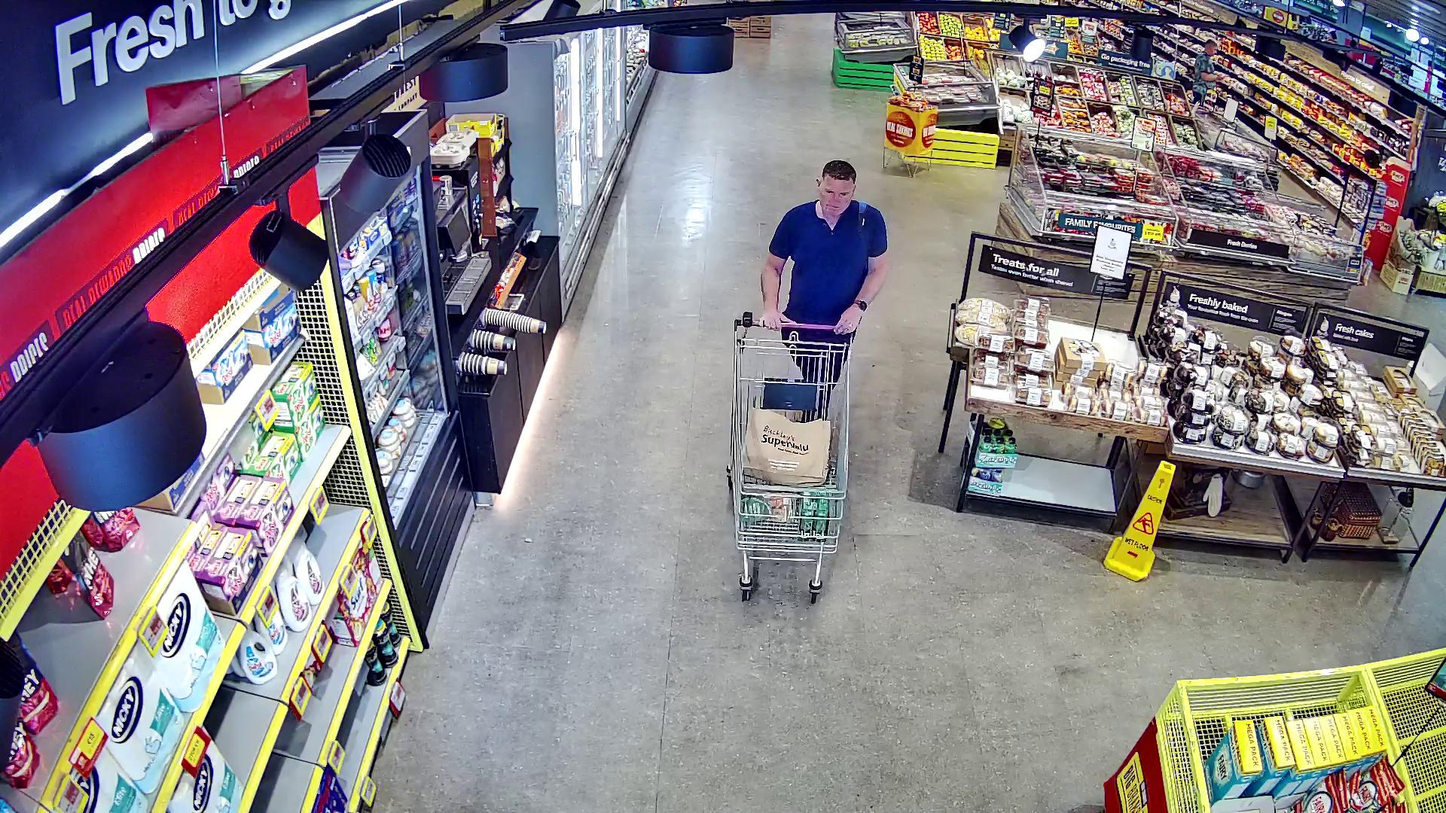filled-shopping-bags: (743, 406, 831, 484)
filled-trolly: (726, 319, 851, 605)
person: (761, 160, 889, 348)
person-with-basket-trolly-and-shopping-bag: (726, 159, 887, 600)
